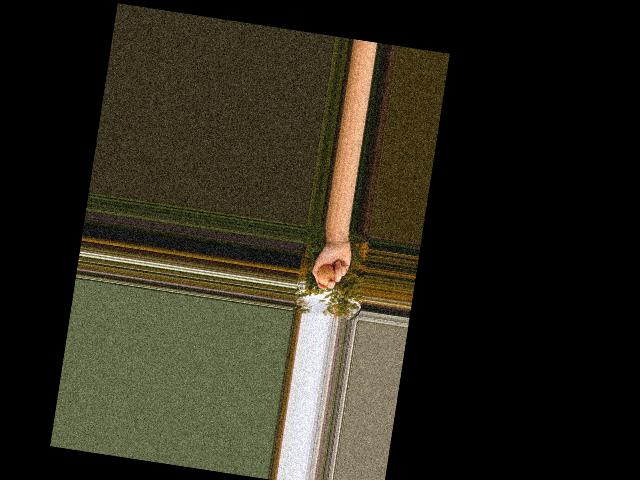egg: (316, 263, 336, 286)
